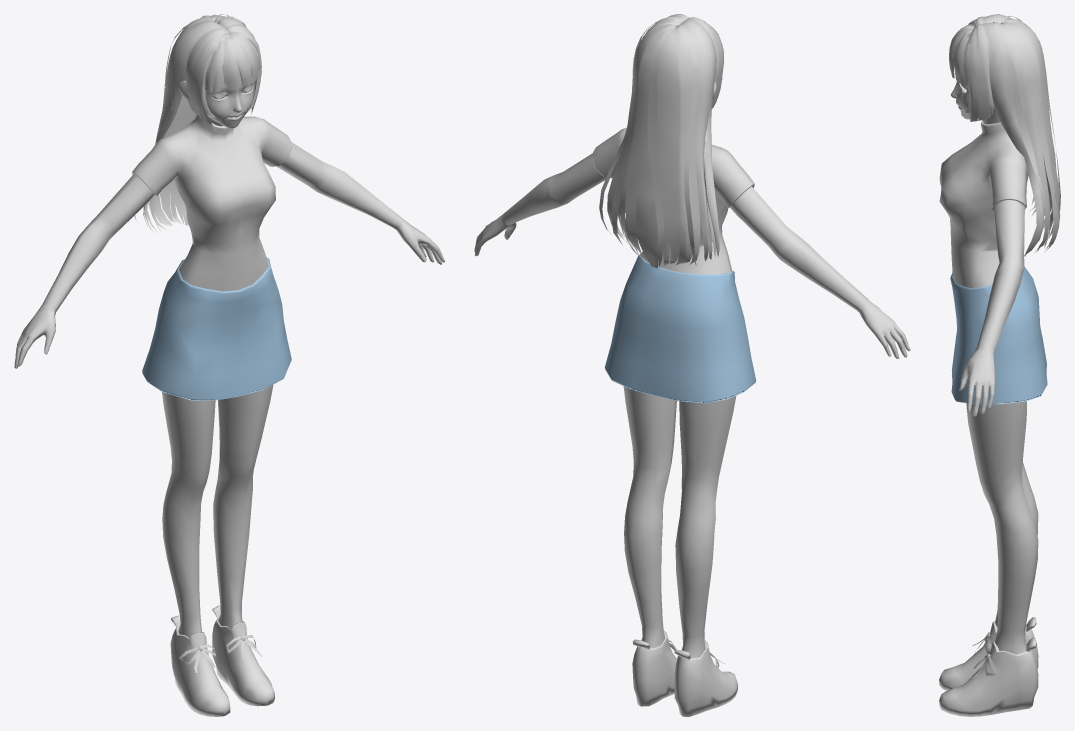
The model's file is anime2.glb.
3 views of the same model, side by side, from view 1: azimuth 30°, elevation 25°; view 2: azimuth 150°, elevation 25°; view 3: azimuth 270°, elevation 25° (orthographic).
Parts seen in each view (by area): view 1: body, top, skirt, hair, shoes; view 2: body, hair, skirt, shoes, top; view 3: body, hair, top, skirt, shoes.
Boxes of the visible parts, x1=… form: body: x1=14, y1=14, x2=445, y2=660; top: x1=132, y1=114, x2=291, y2=291; skirt: x1=142, y1=258, x2=291, y2=400; hair: x1=134, y1=14, x2=261, y2=233; shoes: x1=170, y1=605, x2=274, y2=716; body: x1=474, y1=17, x2=910, y2=667; hair: x1=607, y1=14, x2=723, y2=268; skirt: x1=605, y1=252, x2=756, y2=403; shoes: x1=632, y1=630, x2=738, y2=716; top: x1=593, y1=128, x2=754, y2=274; body: x1=950, y1=15, x2=1060, y2=677; hair: x1=949, y1=14, x2=1060, y2=256; top: x1=939, y1=121, x2=1028, y2=287; skirt: x1=950, y1=266, x2=1047, y2=404; shoes: x1=939, y1=617, x2=1038, y2=716.
Bounding box in the file's own units: 1.3 × 1.96 × 0.3187.
